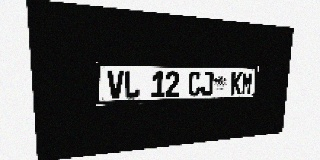1: (151, 71, 166, 98)
2: (165, 71, 180, 97)
C: (188, 71, 201, 96)
J: (201, 71, 214, 96)
K: (230, 72, 243, 95)
L: (124, 71, 140, 99)
M: (241, 72, 253, 94)
V: (107, 70, 124, 99)
